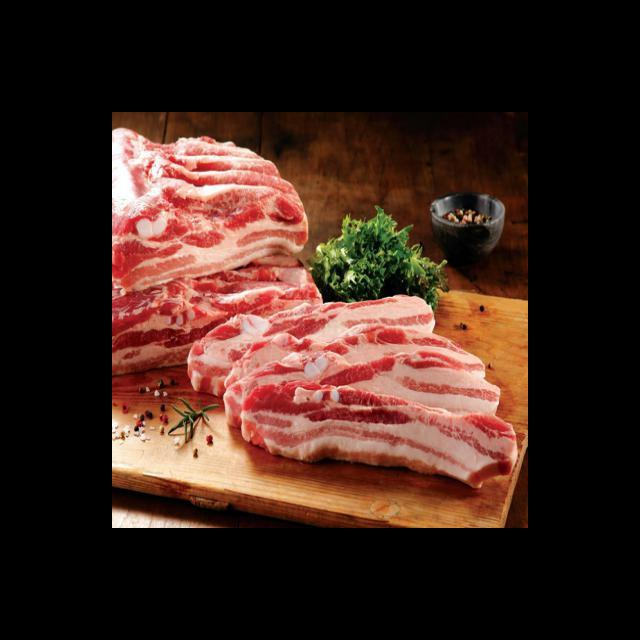pork: (192, 302, 518, 479), (112, 128, 312, 380)
